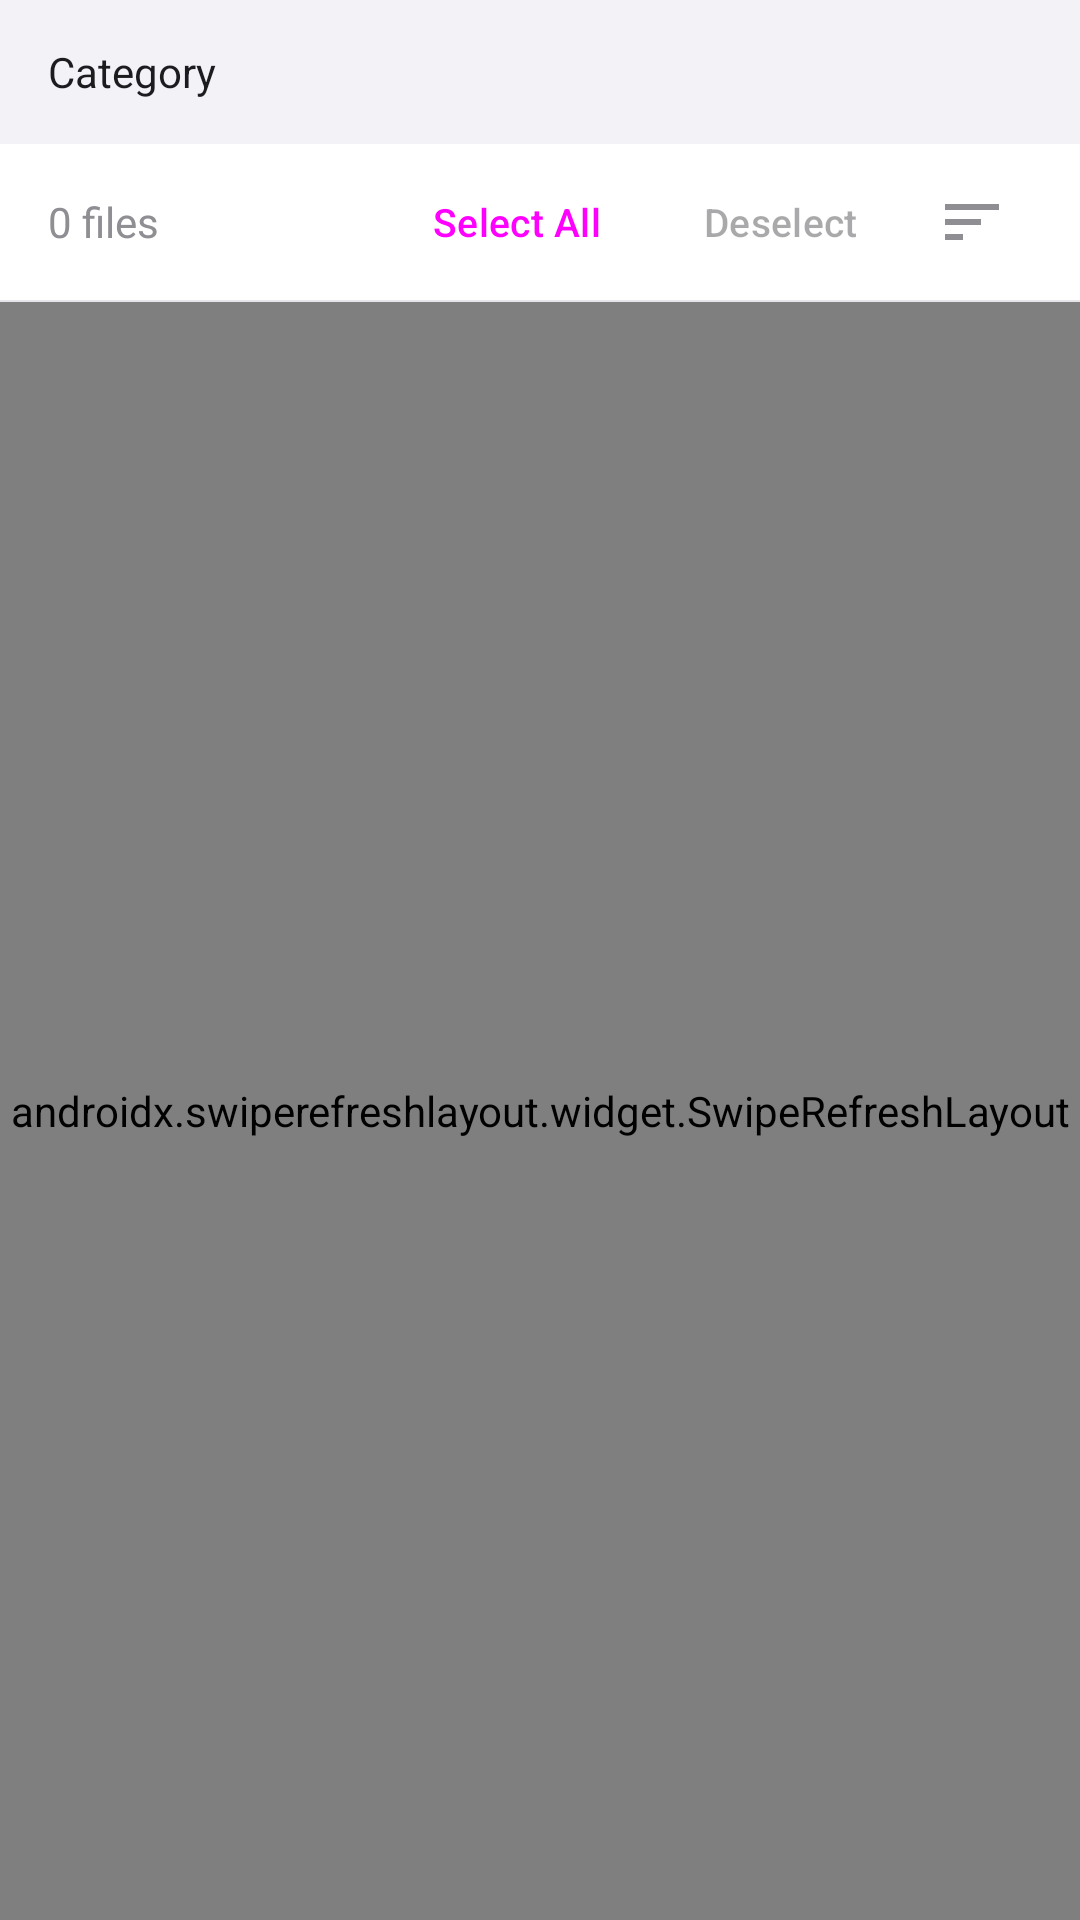

Locate icon controls on the screen. Image size 1080px×1920px, boxes as (x1, y1, x2, y2).
Sort: (945, 204, 999, 240)
